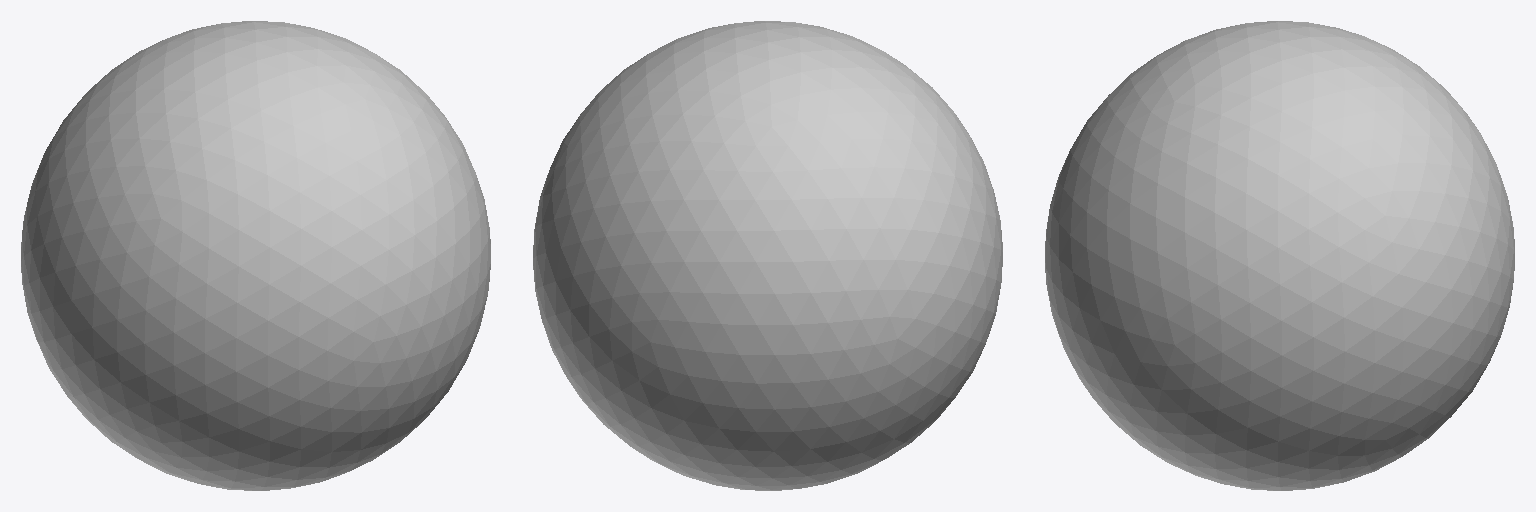
3 views of the same model, side by side, from view 1: azimuth 30°, elevation 25°; view 2: azimuth 150°, elevation 25°; view 3: azimuth 270°, elevation 25° (orthographic).
Parts seen in each view (by area): view 1: <STL_BINARY>; view 2: <STL_BINARY>; view 3: <STL_BINARY>.
Part boxes in pixels (bbox=[...]): <STL_BINARY>: bbox=[21, 21, 490, 490]; <STL_BINARY>: bbox=[533, 21, 1002, 490]; <STL_BINARY>: bbox=[1045, 21, 1514, 490].
Bounding box in the file's own units: 2 × 2 × 2.